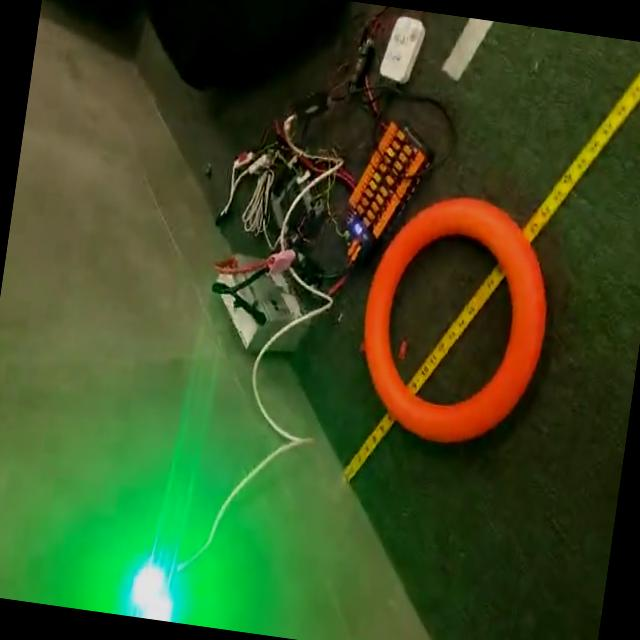note: (350, 189, 561, 456)
